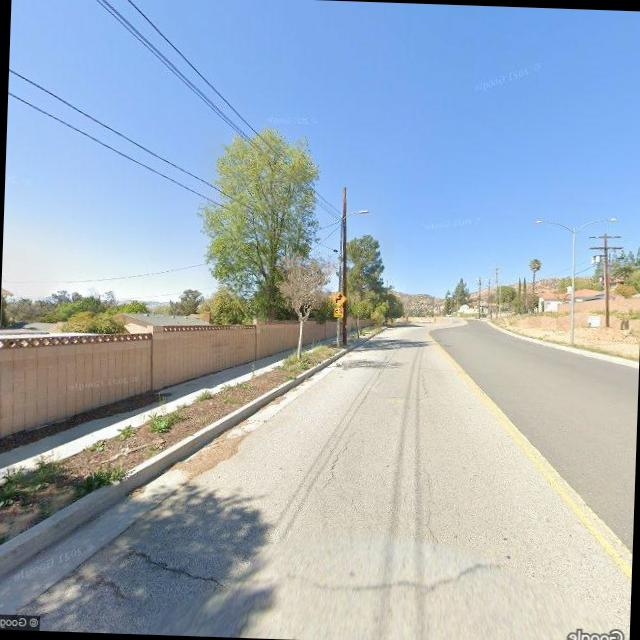crack: (119, 540, 512, 601), (322, 418, 363, 498)
